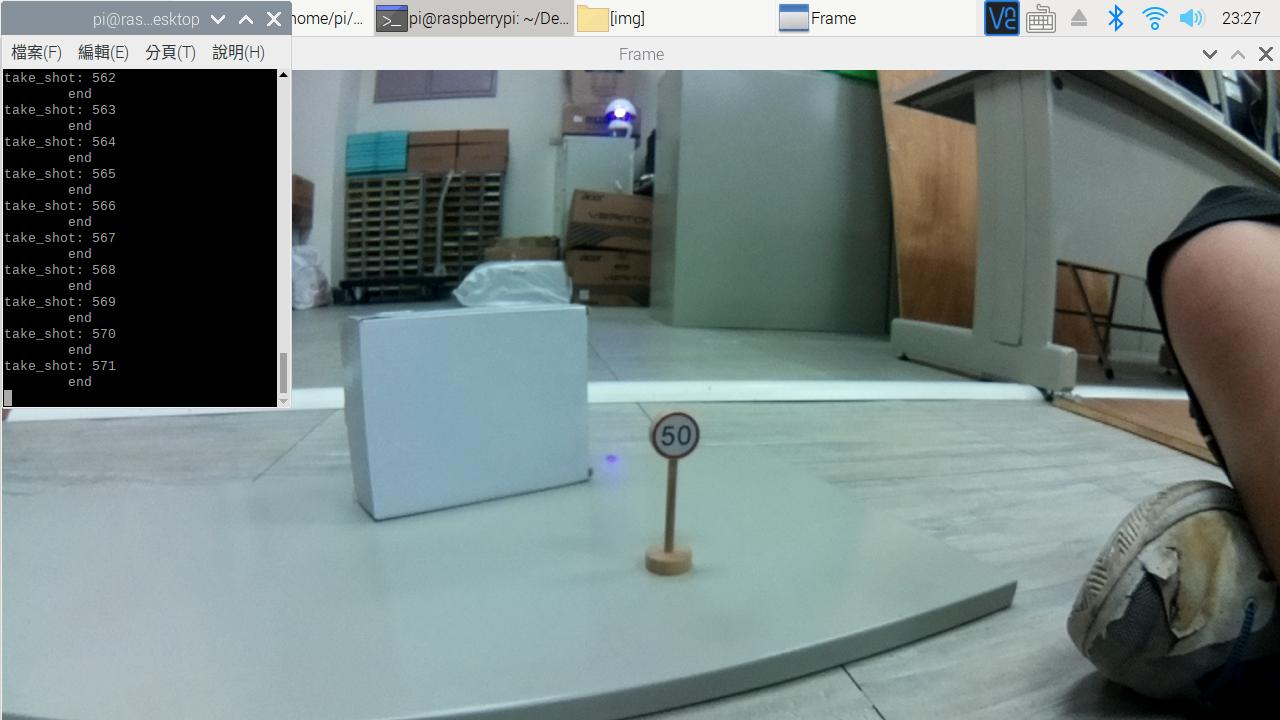Speed50: (647, 411, 704, 469)
